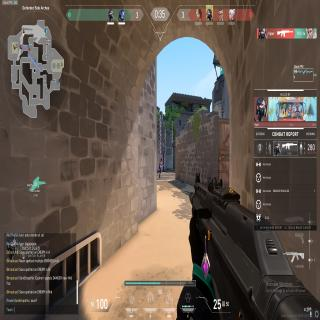ENEMY-BODY: (158, 156, 163, 178)
ENEMY-HEAD: (160, 158, 162, 162)
